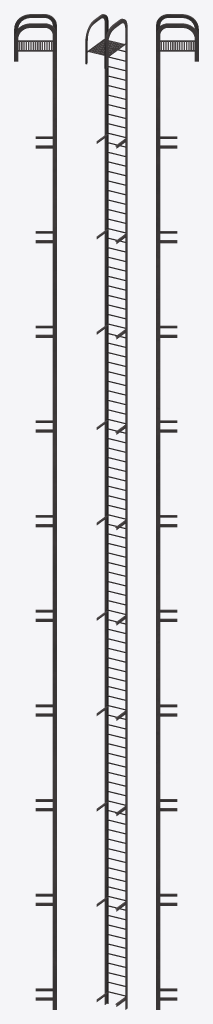
Rendered from лестница пожарная большая.fbx.
3 views of the same model, side by side, from view 1: azimuth 90°, elevation 25°; view 2: azimuth 150°, elevation 25°; view 3: azimuth 270°, elevation 25° (orthographic).
Visible parts, largest first — view 1: Cube_Low; view 2: Cube_Low; view 3: Cube_Low.
Boxes of the visible parts, x1,y1,x2,y2 form: Cube_Low: [14, 14, 56, 1009]; Cube_Low: [85, 14, 127, 1009]; Cube_Low: [156, 14, 198, 1009].
Bounding box in the file's own units: 43.48 × 1994 × 78.49.
